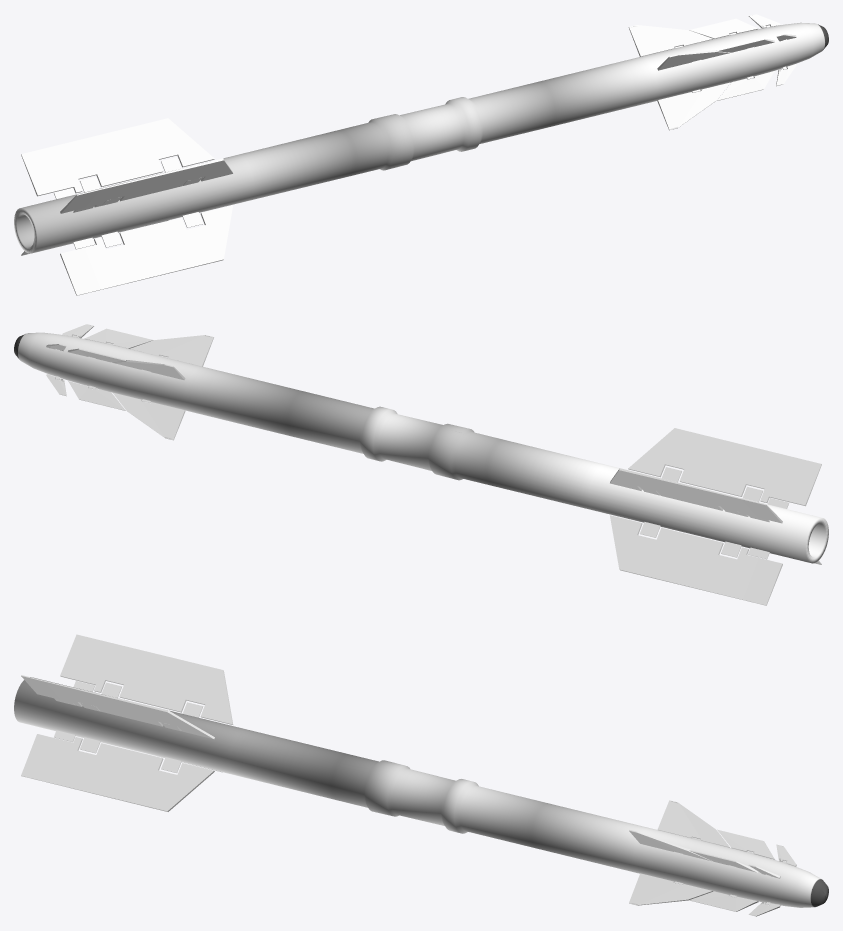
3 renders of one model, top to bottom at view 1: azimuth 30°, elevation 25°; view 2: azimuth 150°, elevation 25°; view 3: azimuth 330°, elevation 25°, orthographic.
Parts seen in each view (by area): view 1: R73; view 2: R73; view 3: R73.
Boxes of the visible parts, left/top/right/bottom form: R73: left=14, top=14, right=828, bottom=295; R73: left=14, top=324, right=828, bottom=605; R73: left=14, top=634, right=828, bottom=916.
Bounding box in the file's own units: 2.95 × 0.3611 × 0.3611.
Materials: 2 (2 with a texture image).
